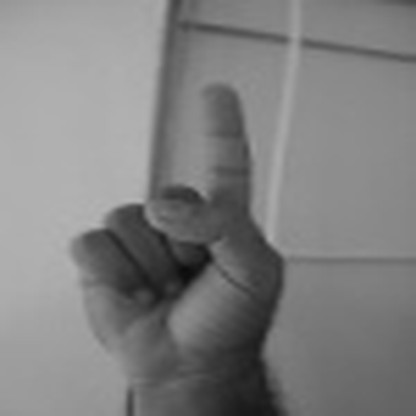d: (62, 79, 289, 375)
